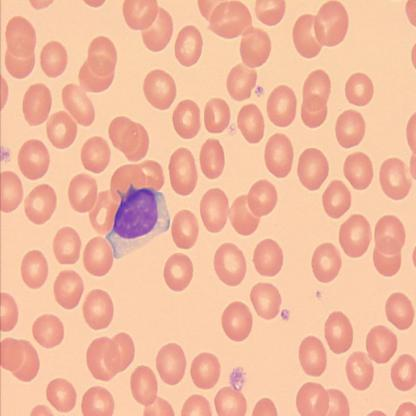Lymphocyte: (104, 181, 170, 260)
